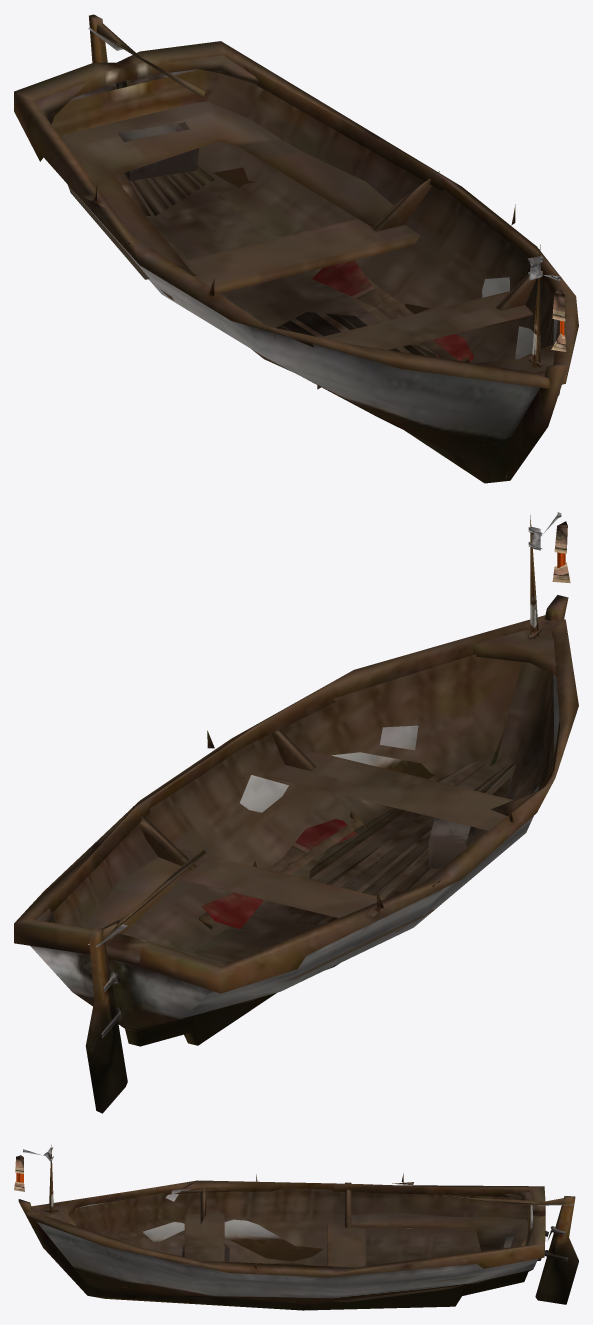
The model's file is cove-victorian-rowboat.lod1.glb.
3 views of the same model, one above another, from view 1: azimuth 30°, elevation 25°; view 2: azimuth 150°, elevation 25°; view 3: azimuth 270°, elevation 25° (orthographic). The views are drawn at different scales.
Visible parts, largest first — view 1: defaultMaterial; view 2: defaultMaterial; view 3: defaultMaterial.
Boxes of the visible parts, x1,y1,x2,y2 form: defaultMaterial: (14, 14, 578, 483); defaultMaterial: (14, 512, 578, 1113); defaultMaterial: (14, 1145, 578, 1310).
Bounding box in the file's own units: 1.48 × 1.25 × 3.8.
Materials: 2 (1 with a texture image).
